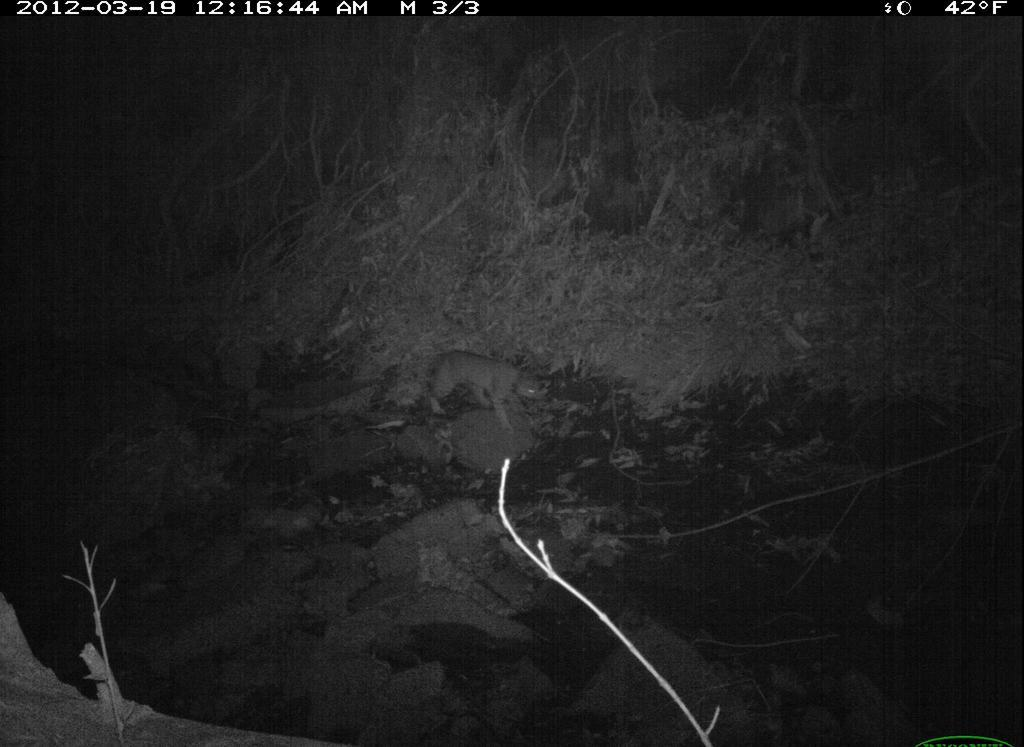bobcat: (418, 331, 561, 447)
